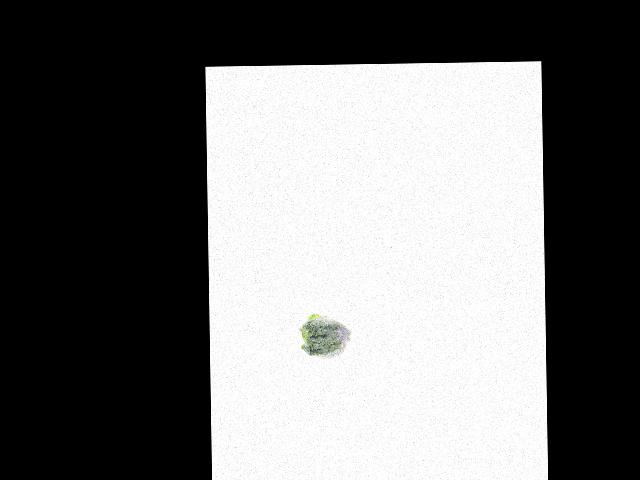lettuce: (299, 310, 351, 360)
